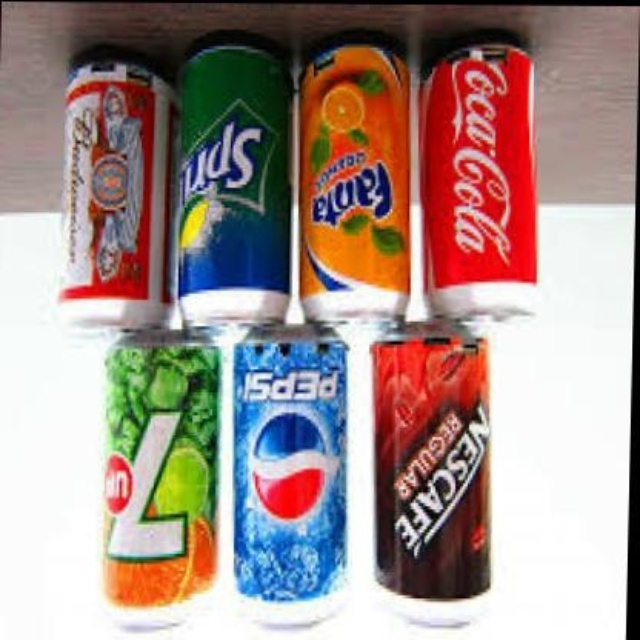trash: (178, 34, 289, 323), (58, 49, 171, 326), (300, 34, 409, 320), (422, 45, 535, 317), (103, 337, 217, 606), (372, 335, 489, 597), (234, 329, 345, 600)
